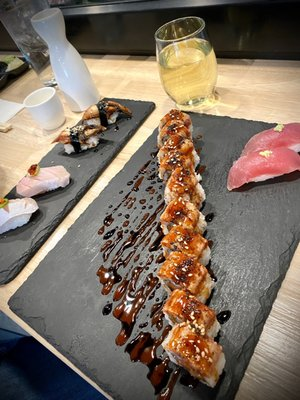pizza: (154, 16, 219, 108), (22, 86, 66, 131)
